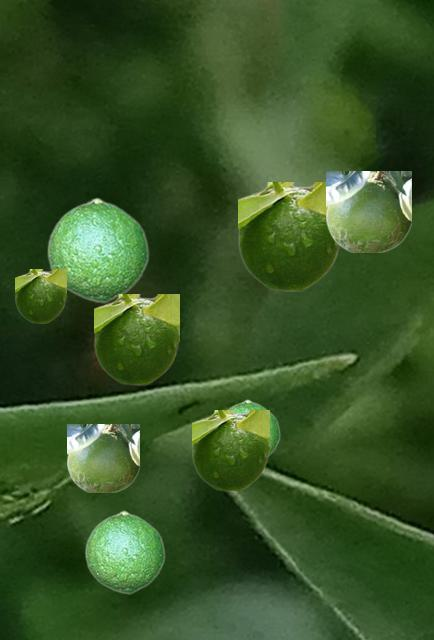dalandan: (238, 182, 339, 290), (46, 197, 148, 302), (94, 294, 178, 384), (326, 171, 410, 251), (84, 510, 164, 593), (192, 410, 268, 490), (67, 424, 138, 491), (227, 399, 279, 456), (15, 269, 65, 322)
